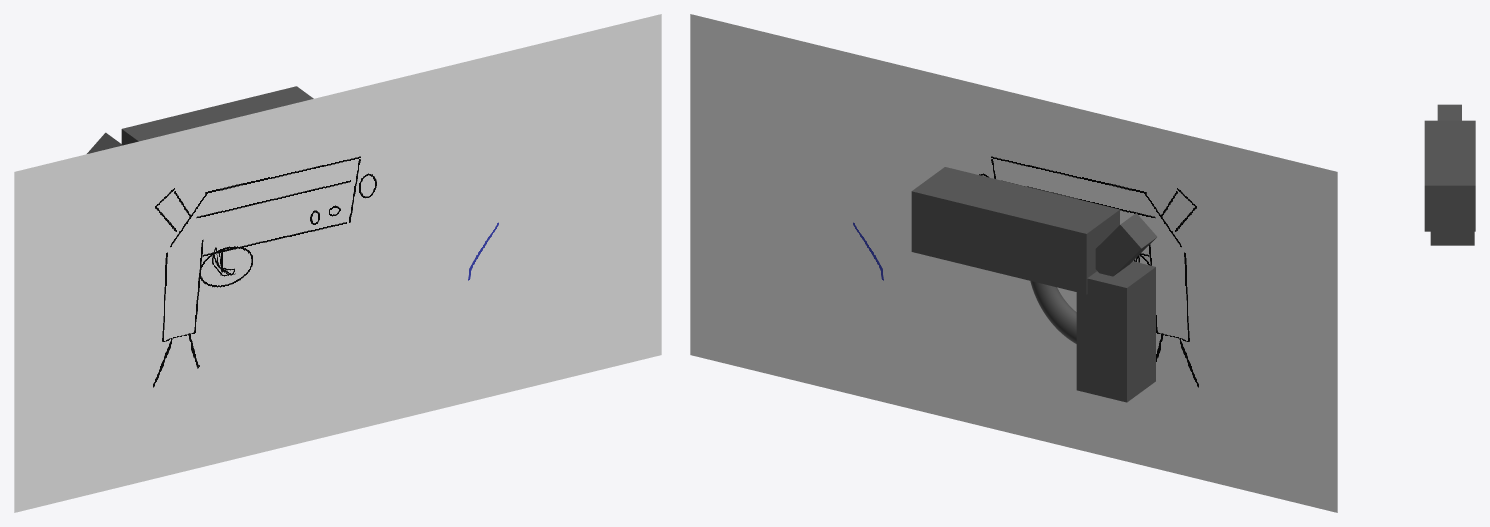
3 views of the same model, side by side, from view 1: azimuth 30°, elevation 25°; view 2: azimuth 150°, elevation 25°; view 3: azimuth 270°, elevation 25° (orthographic). The views are drawn at different scales.
Visible parts, largest first — view 1: mesh_id1, mesh_id27; view 2: mesh_id1, mesh_id27, mesh_id31, mesh_id29, mesh_id37; view 3: mesh_id27, mesh_id31, mesh_id29.
Boxes of the visible parts, x1,y1,x2,y2 form: mesh_id1: [14, 14, 661, 512]; mesh_id27: [121, 86, 313, 145]; mesh_id1: [690, 14, 1337, 512]; mesh_id27: [911, 167, 1119, 294]; mesh_id31: [1076, 261, 1155, 402]; mesh_id29: [1095, 213, 1156, 276]; mesh_id37: [1030, 281, 1076, 343]; mesh_id27: [1424, 120, 1475, 231]; mesh_id31: [1430, 231, 1474, 245]; mesh_id29: [1437, 104, 1461, 120].
Size of the model in its own units: 1.91 by 0.964 by 0.3678.
Materials: 5 (5 with a texture image).
